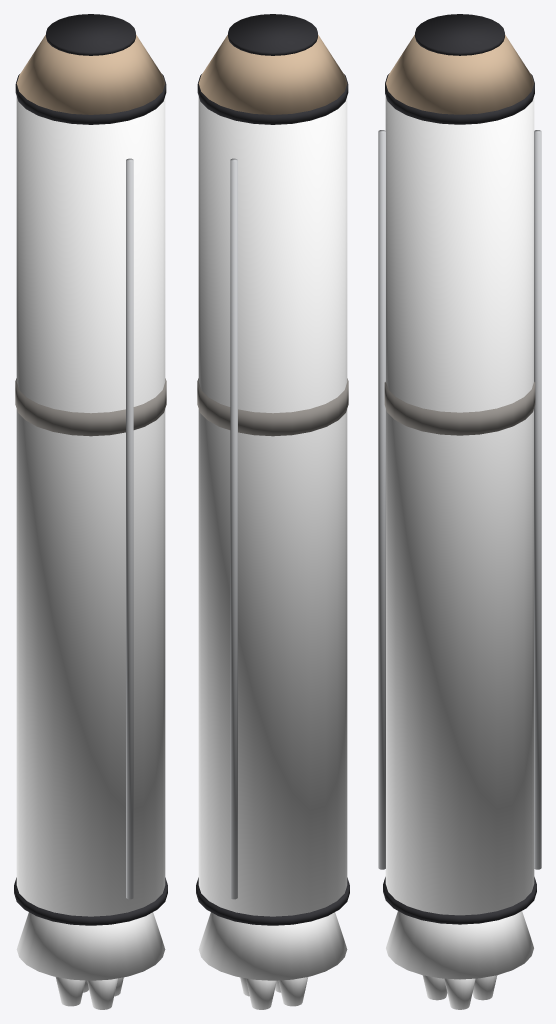
Rendered from SLS_Core_Stage.glb.
3 renders of one model, left to right at view 1: azimuth 30°, elevation 25°; view 2: azimuth 150°, elevation 25°; view 3: azimuth 270°, elevation 25°, orthographic.
Visible parts, largest first — view 1: Core_Stage, LVSA_Frustum, Engine_Skirt, Core_Feedline_270, Core_Intertank_Band, LVSA_Top_Seam, Core_Band_Top, Core_Aft_Skirt_Ring, RS25_Nozzle_4, RS25_Nozzle_2; view 2: Core_Stage, LVSA_Frustum, Engine_Skirt, Core_Feedline_90, Core_Intertank_Band, LVSA_Top_Seam, Core_Band_Top, Core_Aft_Skirt_Ring, RS25_Nozzle_3, RS25_Nozzle_2; view 3: Core_Stage, LVSA_Frustum, Engine_Skirt, Core_Feedline_270, Core_Feedline_90, Core_Intertank_Band, LVSA_Top_Seam, Core_Band_Top, Core_Aft_Skirt_Ring, RS25_Nozzle_1, RS25_Nozzle_3, RS25_Nozzle_4.
Boxes of the visible parts, x1,y1,x2,y2 form: Core_Stage: [16, 96, 165, 916]; LVSA_Frustum: [16, 34, 165, 114]; Engine_Skirt: [16, 912, 165, 980]; Core_Feedline_270: [126, 158, 133, 899]; Core_Intertank_Band: [15, 378, 166, 436]; LVSA_Top_Seam: [46, 14, 135, 55]; Core_Band_Top: [15, 74, 166, 124]; Core_Aft_Skirt_Ring: [14, 877, 167, 925]; RS25_Nozzle_4: [87, 978, 117, 1009]; RS25_Nozzle_2: [55, 977, 85, 1006]; Core_Stage: [198, 96, 347, 916]; LVSA_Frustum: [198, 34, 347, 114]; Engine_Skirt: [198, 912, 347, 980]; Core_Feedline_90: [230, 158, 237, 899]; Core_Intertank_Band: [197, 378, 348, 436]; LVSA_Top_Seam: [228, 14, 317, 55]; Core_Band_Top: [197, 74, 348, 124]; Core_Aft_Skirt_Ring: [196, 877, 349, 925]; RS25_Nozzle_3: [246, 978, 276, 1009]; RS25_Nozzle_2: [278, 977, 308, 1006]; Core_Stage: [385, 96, 534, 915]; LVSA_Frustum: [386, 34, 533, 114]; Engine_Skirt: [386, 911, 533, 979]; Core_Feedline_270: [378, 130, 385, 869]; Core_Feedline_90: [534, 130, 541, 869]; Core_Intertank_Band: [384, 382, 535, 435]; LVSA_Top_Seam: [415, 14, 504, 55]; Core_Band_Top: [385, 73, 534, 124]; Core_Aft_Skirt_Ring: [383, 877, 536, 924]; RS25_Nozzle_1: [444, 978, 475, 1009]; RS25_Nozzle_3: [472, 975, 497, 1000]; RS25_Nozzle_4: [422, 975, 447, 1000].
Size of the model in its own units: 8.7 by 60.15 by 9.24.
